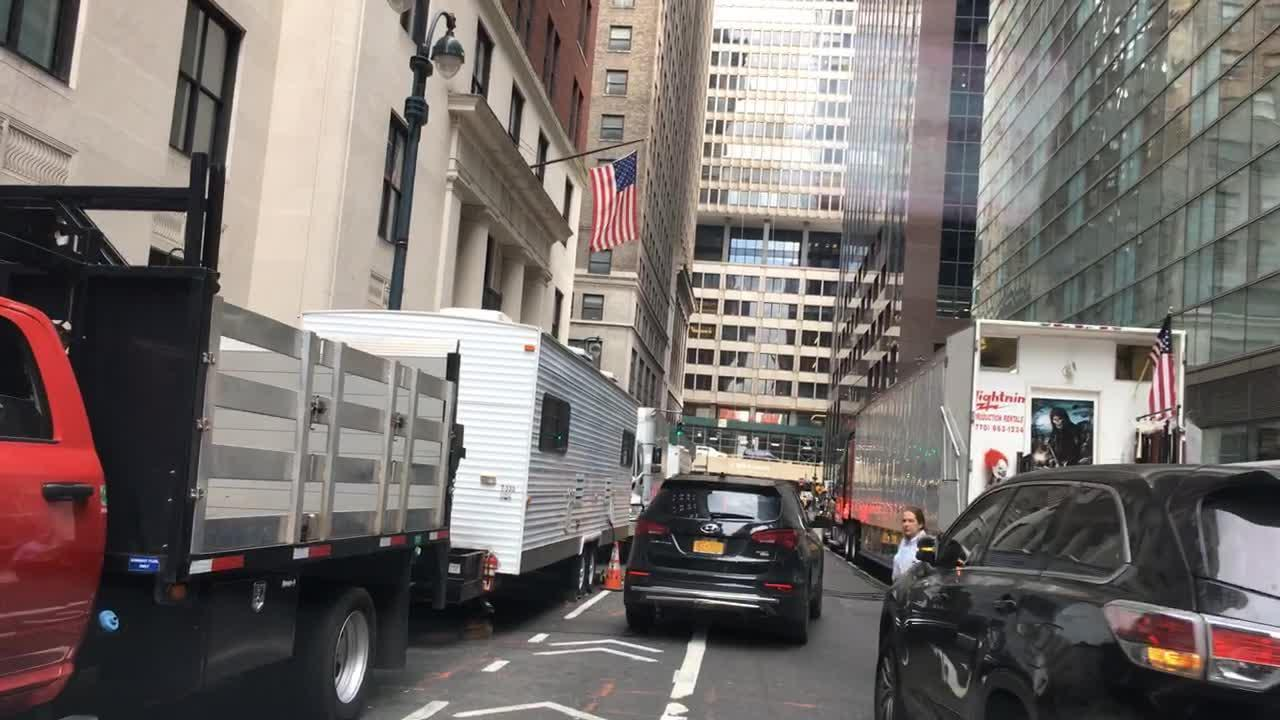Hyundai: (698, 522, 722, 536)
